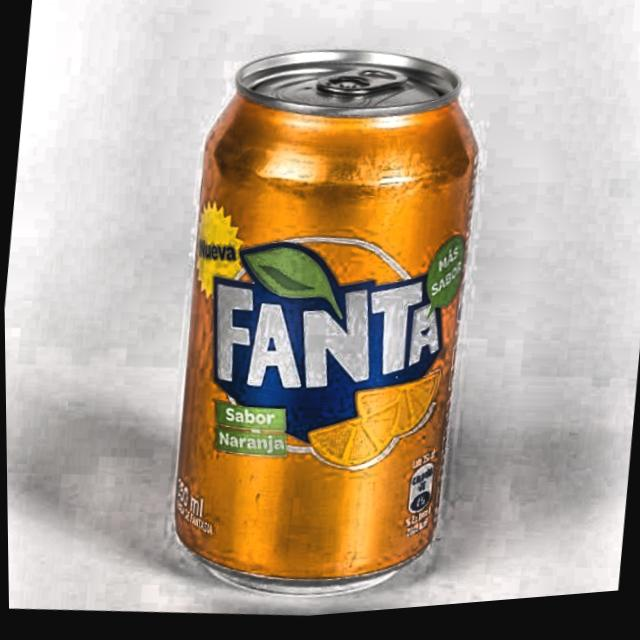Cans: (125, 11, 507, 632)
